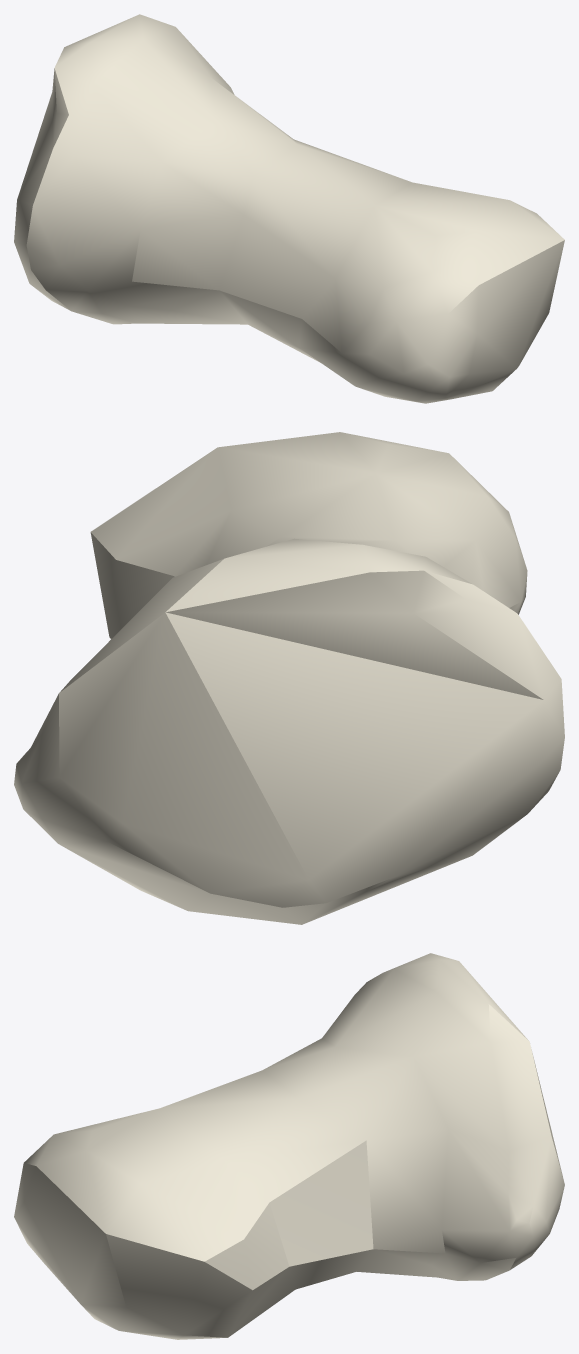
File: fma32653_fj3179.glb
3 views of the same model, one above another, from view 1: azimuth 30°, elevation 25°; view 2: azimuth 150°, elevation 25°; view 3: azimuth 270°, elevation 25° (orthographic). The views are drawn at different scales.
Visible parts, largest first — view 1: FMA32653_FJ3179; view 2: FMA32653_FJ3179; view 3: FMA32653_FJ3179.
Part boxes in pixels (<box>): FMA32653_FJ3179: <box>14,14,564,403</box>; FMA32653_FJ3179: <box>14,432,564,924</box>; FMA32653_FJ3179: <box>14,953,564,1339</box>.
Size of the model in its own units: 0.0112 by 0.0072 by 0.0132.
